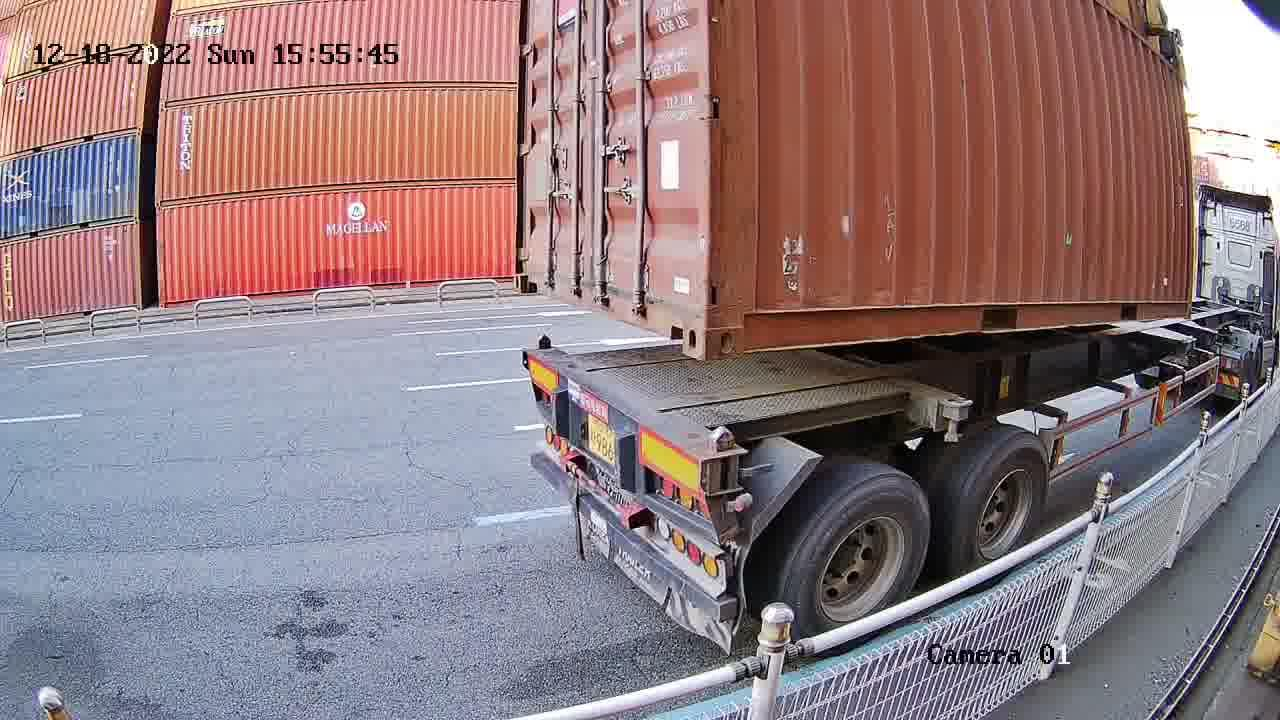Chassis: (523, 347, 744, 493)
Cone: (693, 425, 744, 496), (528, 330, 553, 361)
Hole_L: (705, 278, 783, 360), (514, 258, 548, 295)
Hole_R: (652, 277, 701, 357)
Tire: (789, 478, 932, 634), (958, 437, 1050, 564)
